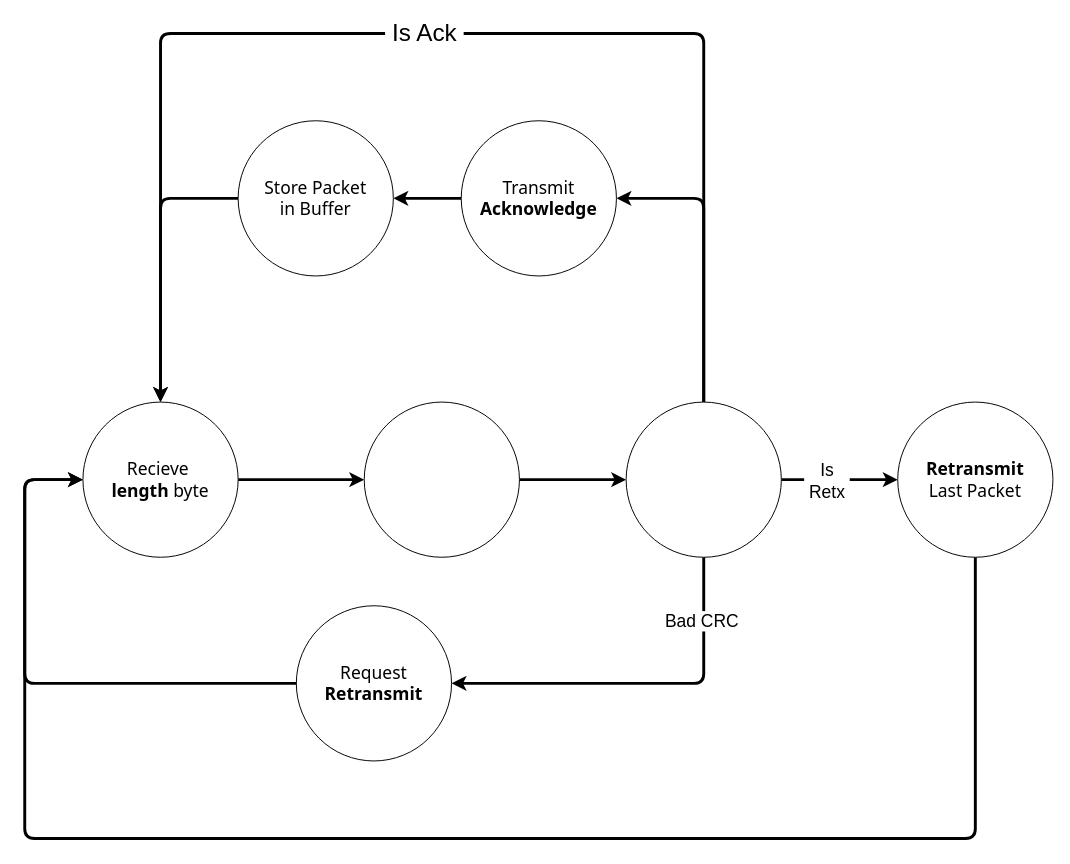
Image size: 1070x864. Some labels were removed from this diagram. Each missing label, with the centre of its shape:
"Recieve CRC byte" goes at [703,479].
"Recieve Data bytes" goes at [441,479].
